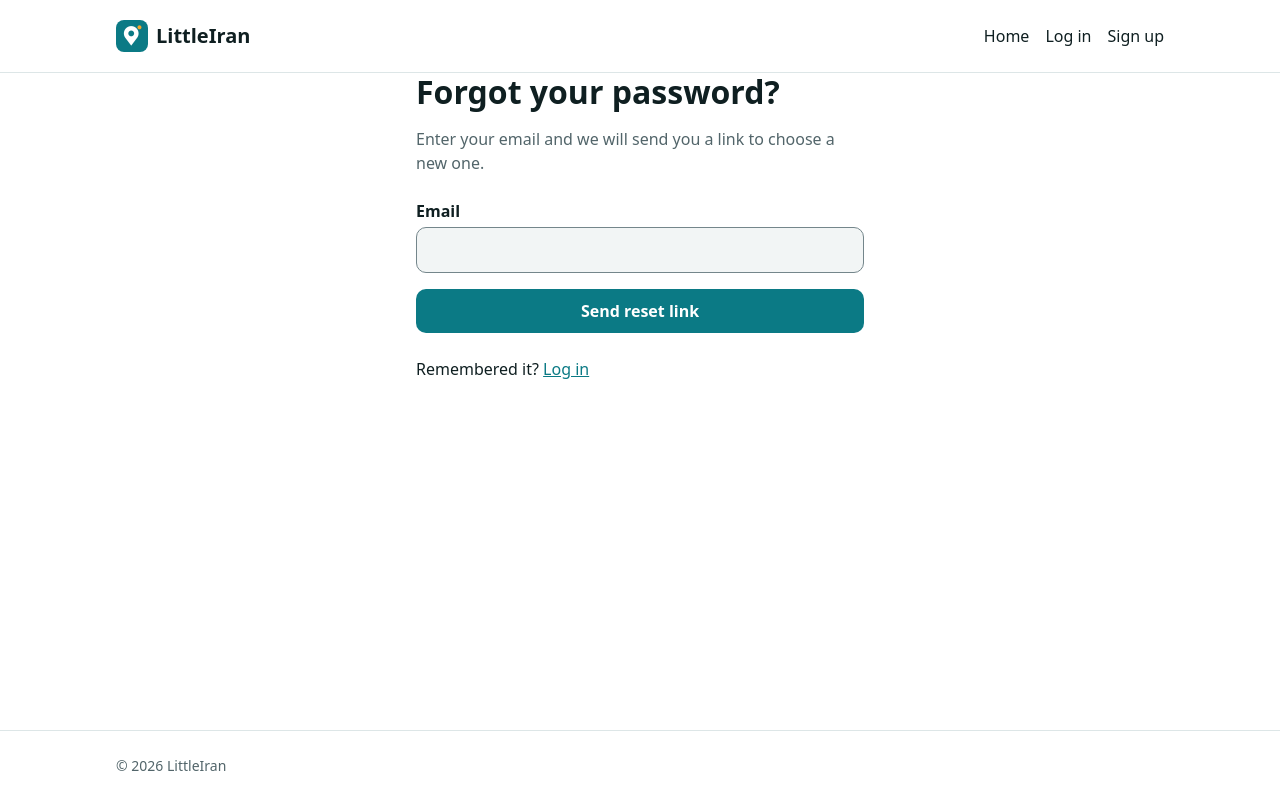
Scenario: Password reset › rejects a malformed email before sending anything
Type "test@invalid" into the field labelled "Email". click: (640,250)
box: [417,228,863,272]
Then press Enter
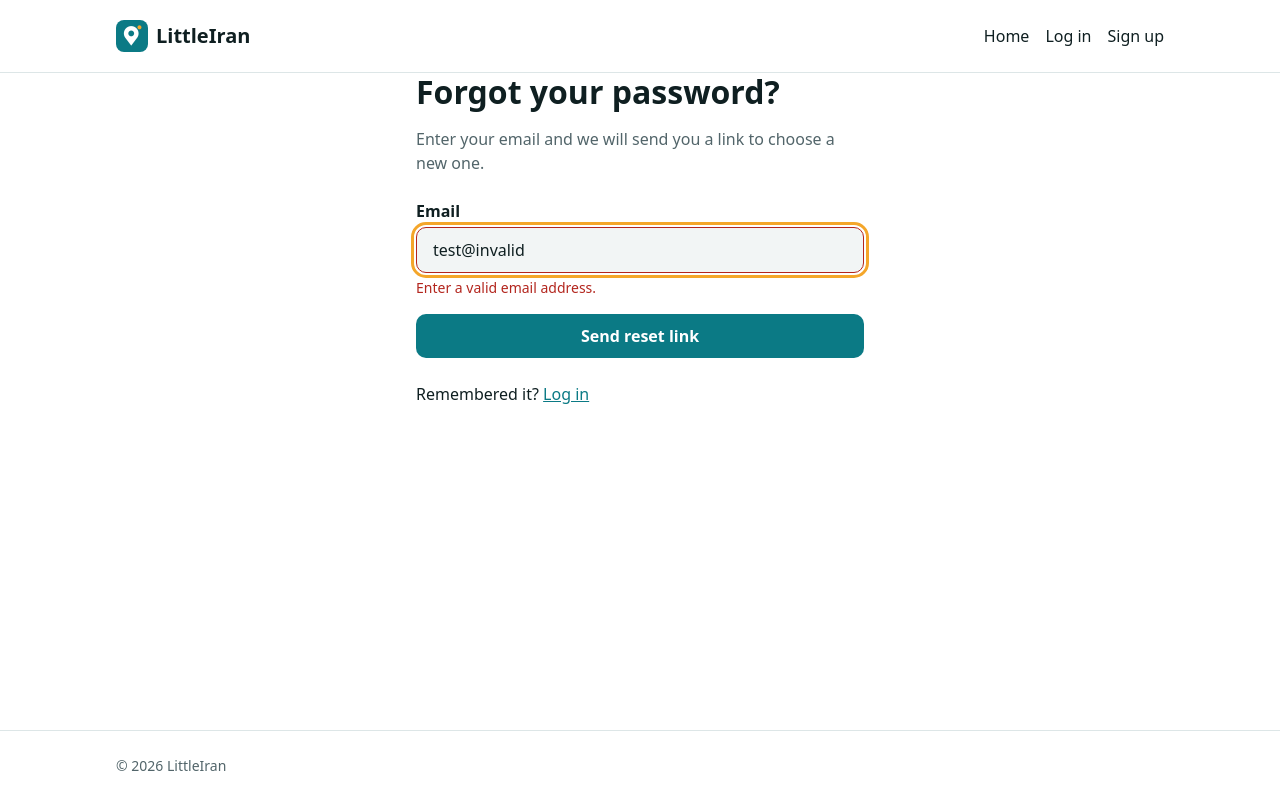
Check: the text "Enter a valid email address." is shown, box [416,278,596,297]
